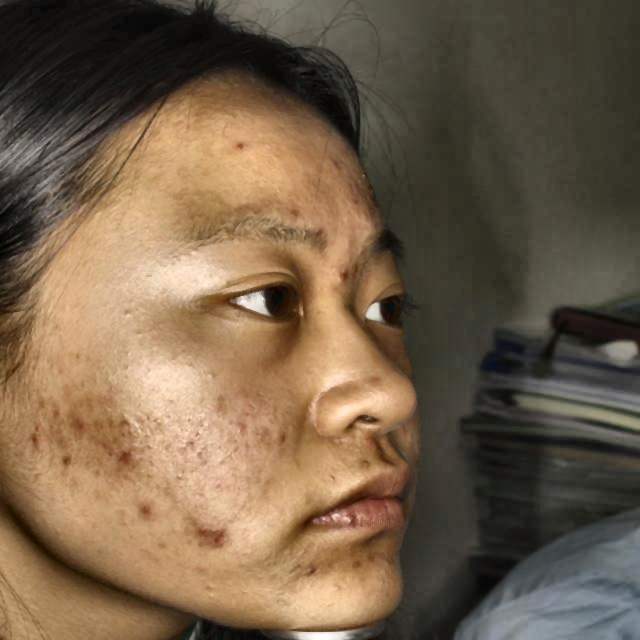pustule: (250, 419, 294, 446), (196, 516, 229, 550), (128, 489, 152, 530), (298, 551, 330, 580), (114, 442, 144, 468), (26, 416, 49, 449), (68, 407, 90, 438), (222, 134, 250, 154), (56, 444, 76, 472), (328, 258, 347, 282)
